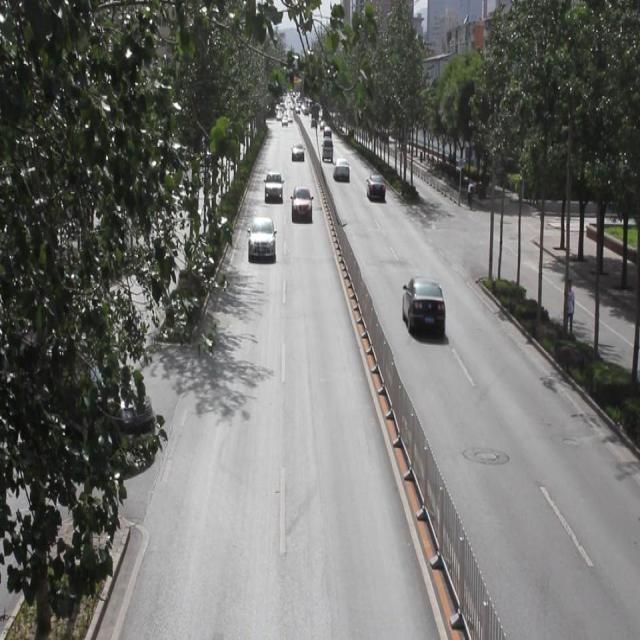car: (401, 274, 445, 340), (247, 215, 276, 258), (290, 184, 313, 220), (264, 169, 283, 201), (366, 172, 385, 200), (334, 156, 349, 179), (291, 140, 304, 162)
truck: (320, 137, 332, 162)
